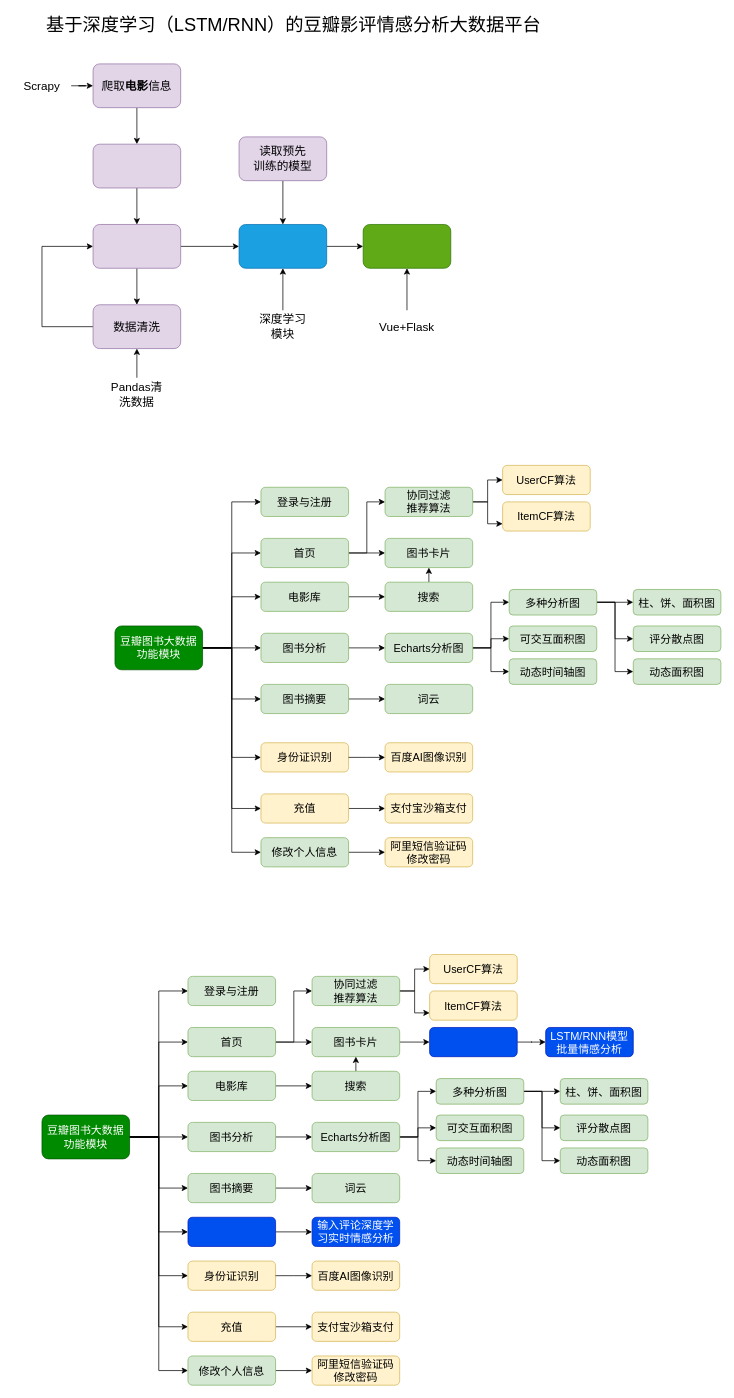
Some shapes in this 734 by 1398 pixel diagram are drawn without their labels. The centre of each missing label's shape, as x and y in pixels:
LSTM/RNN进行影评情感分析: the point at 282,246
入MySQL 数据库: the point at 136,246
可视化平台: the point at 406,246
情感分析: the point at 231,1231
查看影评: the point at 473,1042
爬取 影评 信息: the point at 136,165
